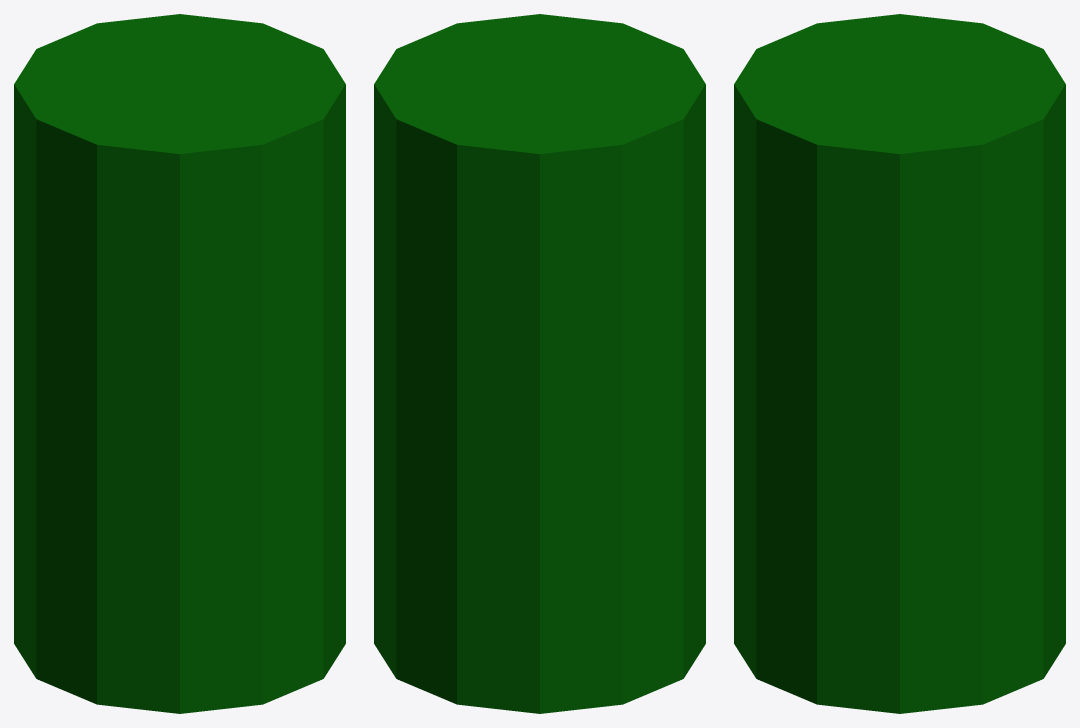
The model's file is Prop_Industrial_Rocket_Middle_01.FBX.
The picture shows the model from 3 angles, left to right: view 1: azimuth 30°, elevation 25°; view 2: azimuth 150°, elevation 25°; view 3: azimuth 270°, elevation 25°; orthographic projection.
Visible parts, largest first — view 1: Prop_Industrial_Rocket_Middle_01; view 2: Prop_Industrial_Rocket_Middle_01; view 3: Prop_Industrial_Rocket_Middle_01.
Part boxes in pixels (x1=…): Prop_Industrial_Rocket_Middle_01: x1=14, y1=14, x2=345, y2=713; Prop_Industrial_Rocket_Middle_01: x1=374, y1=14, x2=705, y2=713; Prop_Industrial_Rocket_Middle_01: x1=734, y1=14, x2=1065, y2=713.
Bounding box in the file's own units: 1538 × 2864 × 1538.
